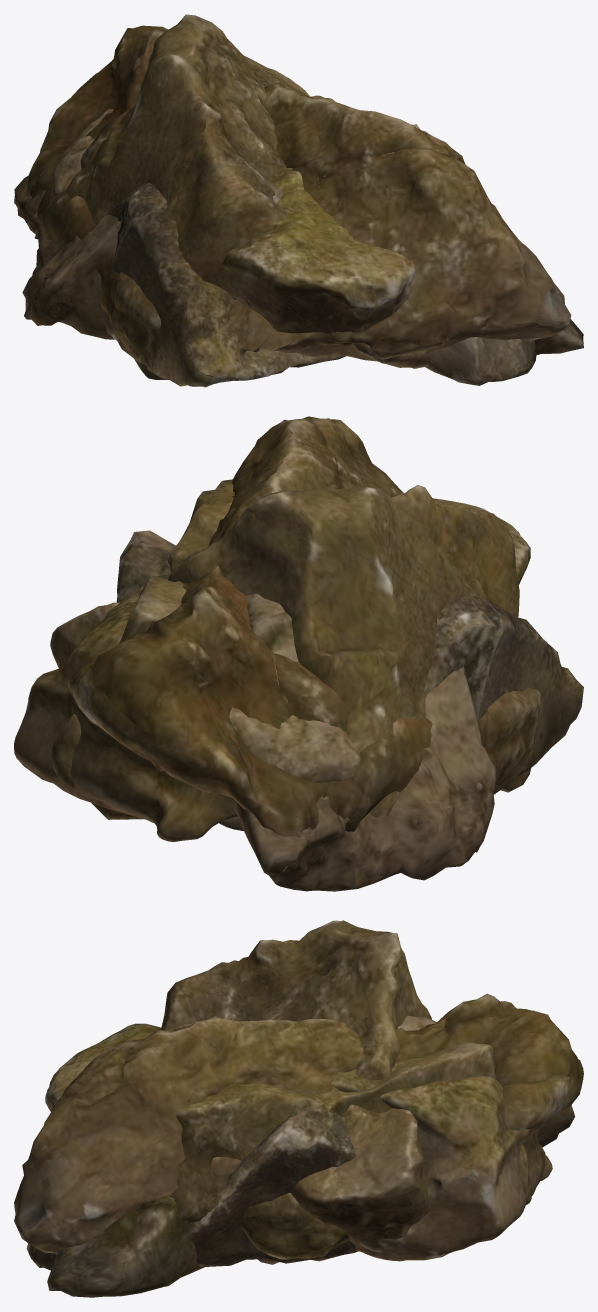
The model's file is rocks.glb.
3 views of the same model, one above another, from view 1: azimuth 30°, elevation 25°; view 2: azimuth 150°, elevation 25°; view 3: azimuth 270°, elevation 25° (orthographic). The views are drawn at different scales.
Parts seen in each view (by area): view 1: rock_moss_set_01_rock01, rock_moss_set_01_rock04, rock_moss_set_01_rock05, rock_moss_set_01_rock03, rock_moss_set_01_rock02, rock_moss_set_01_rock06; view 2: rock_moss_set_01_rock01, rock_moss_set_01_rock04, rock_moss_set_01_rock02, rock_moss_set_01_rock05, rock_moss_set_01_rock03, rock_moss_set_01_rock06; view 3: rock_moss_set_01_rock01, rock_moss_set_01_rock04, rock_moss_set_01_rock05, rock_moss_set_01_rock06, rock_moss_set_01_rock02, rock_moss_set_01_rock03.
Boxes of the visible parts, x1,y1,x2,y2 form: rock_moss_set_01_rock01: (26,25,571,379); rock_moss_set_01_rock04: (54,14,324,299); rock_moss_set_01_rock05: (51,109,415,356); rock_moss_set_01_rock03: (106,124,429,387); rock_moss_set_01_rock02: (14,125,583,385); rock_moss_set_01_rock06: (244,55,436,368); rock_moss_set_01_rock01: (67,416,540,847); rock_moss_set_01_rock04: (50,485,519,817); rock_moss_set_01_rock02: (232,548,496,891); rock_moss_set_01_rock05: (14,498,530,841); rock_moss_set_01_rock03: (116,530,583,830); rock_moss_set_01_rock06: (51,472,276,819); rock_moss_set_01_rock01: (14,993,583,1264); rock_moss_set_01_rock04: (161,920,431,1252); rock_moss_set_01_rock05: (45,1023,552,1261); rock_moss_set_01_rock06: (169,1042,532,1259); rock_moss_set_01_rock02: (26,1014,574,1297); rock_moss_set_01_rock03: (188,1110,357,1267).
Bounding box in the file's own units: 2.65 × 1.77 × 3.37.
1 material, 1 textured.
